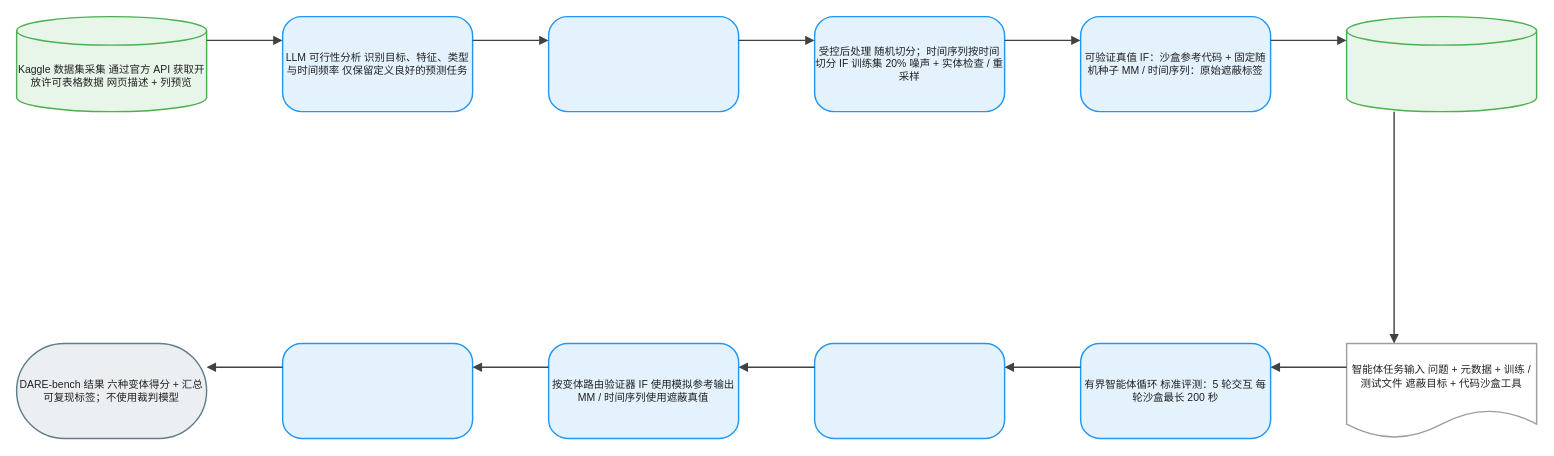
Image size: 1554x456. Some labels were removed from this diagram. Here are the shapes that lost their labels. From the top down, the centre of each, then its label:
At point 643,63: "六种任务变体 分类 IF / MM；回归 IF / MM 时间序列 XF / CF".
At point 1441,63: "论文基准：6,300 题 5,948 训练 + 352 评测 分类 2,468 / 回归 1,888 / 时间序列 1,944".
At point 377,390: "客观评分 分类 / 回归 IF：精确 0 或 1；分类 MM：Macro-F1 回归 + 时间序列：截断 R²；多目标取平均".
At point 909,390: "执行数据科学代码 加载 / 清洗 / 拟合 / 预测 输出按行对齐的预测文件".
